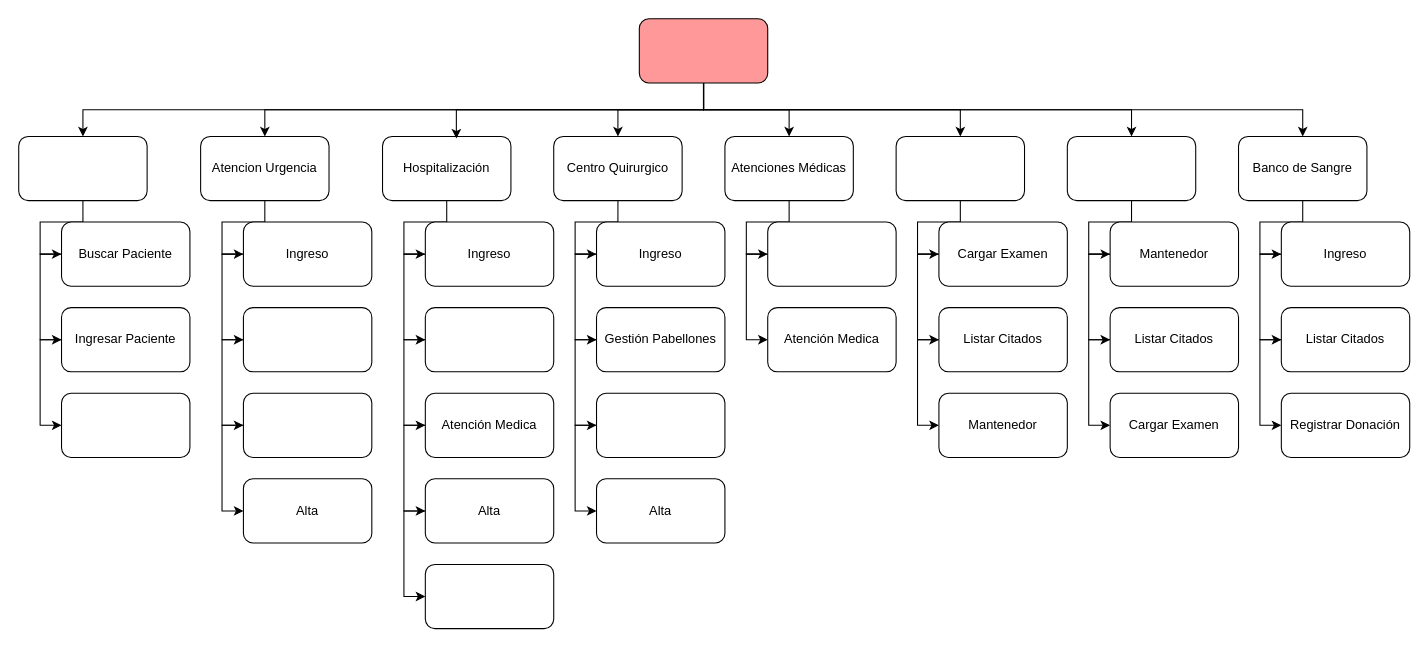
Some shapes in this 1428 by 647 pixel diagram are drawn without their labels. Each missing label, with the centre of its shape:
Actualizar Paciente: the point at 125,424
Atención: the point at 307,424
Atención Enfermería: the point at 489,339
Citados por Día: the point at 831,253
Gestión Camas: the point at 489,596
Historia Clinica: the point at 82,168
Imagenología: the point at 960,168
Labotario: the point at 1131,168
Personal de Salud: the point at 703,50
Registro Cirugía: the point at 660,424
Triage: the point at 307,339
